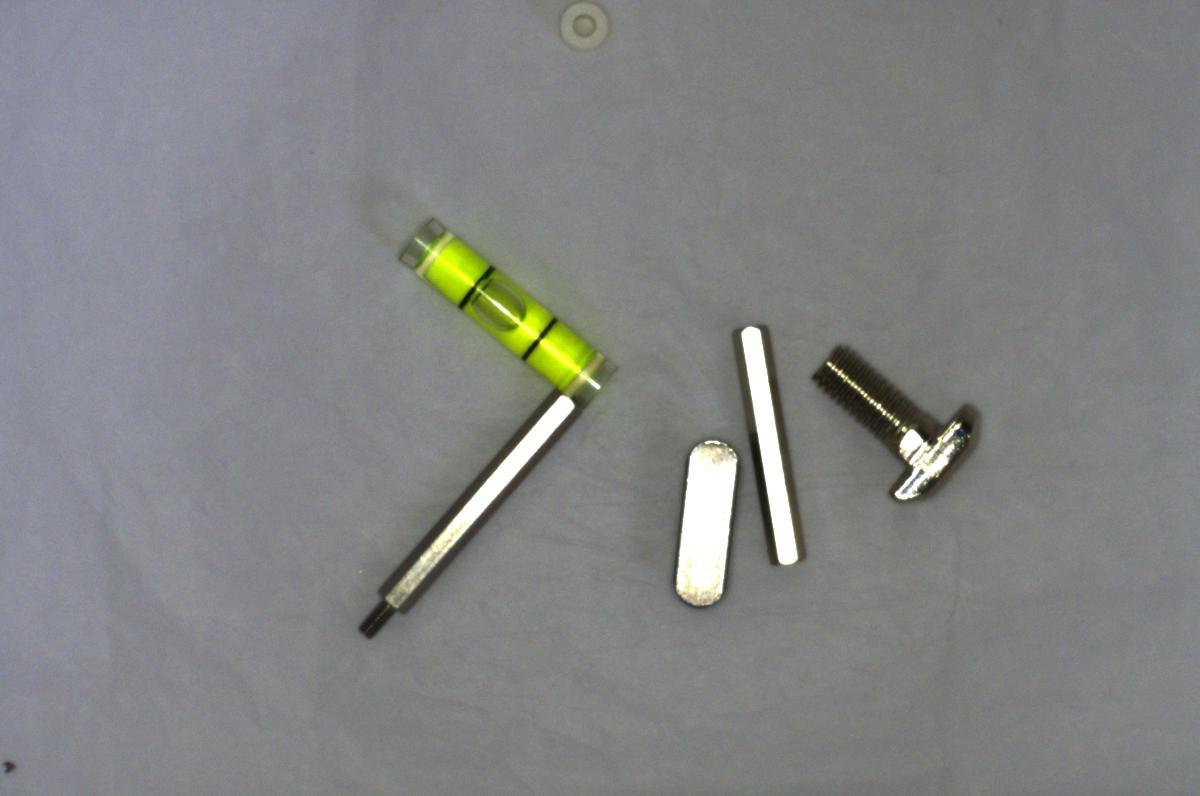Double hexagonal column: (737, 320, 807, 572)
Hexagonal steel column: (351, 386, 575, 639)
Horizontal bubble: (390, 210, 617, 401)
Keybar: (668, 427, 742, 610)
Plastic cushion pillar: (552, 2, 615, 56)
T-shaped screw: (792, 345, 995, 519)
